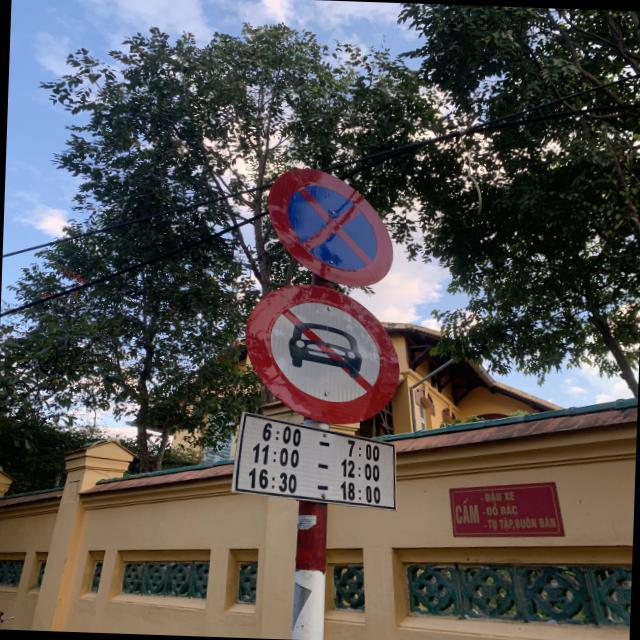Cam_Dung_Va_Dau_Xe: (264, 164, 398, 290)
Cam_O_To: (242, 280, 406, 429)
